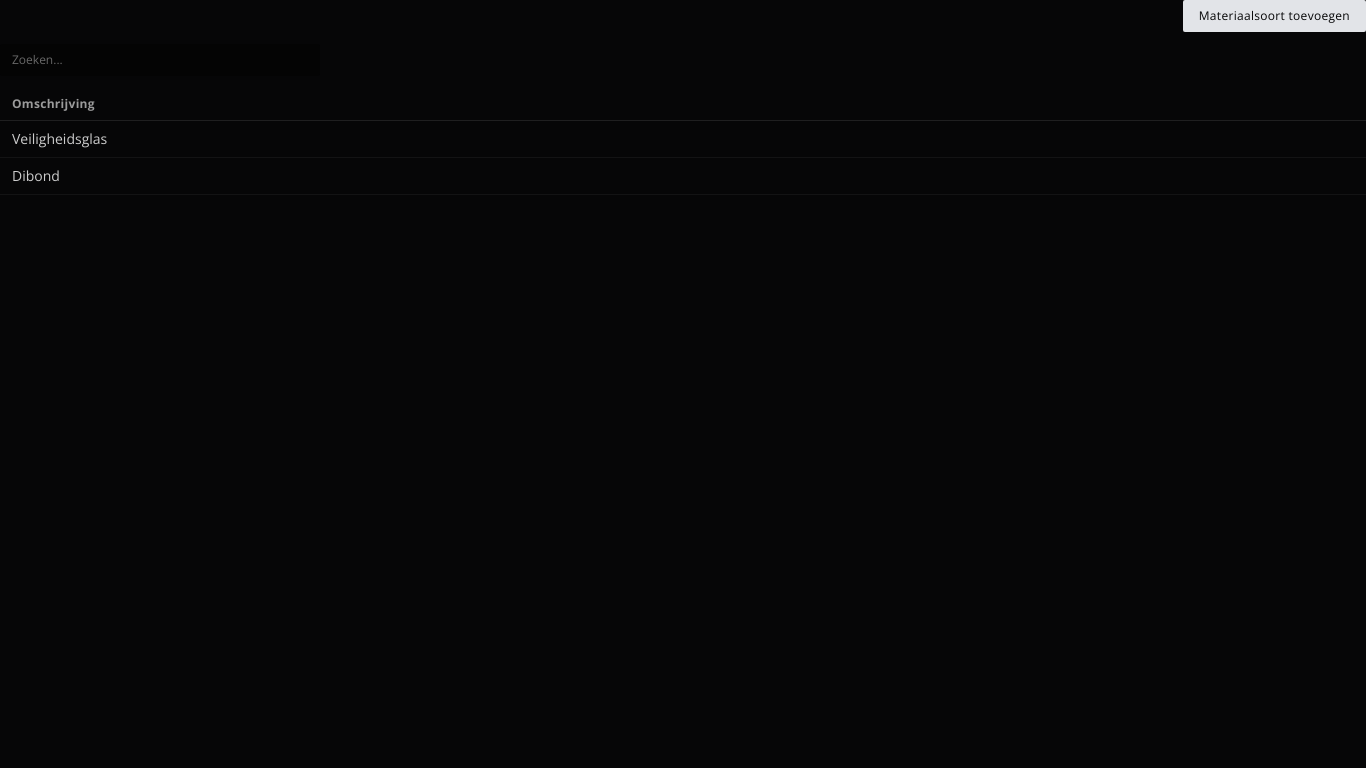
Test: MateriaalsoortenSection › disables Opslaan until omschrijving is filled in
Click the button with test id "materiaalsoorten-add" at (1274, 16), box [1183, 0, 1365, 32]
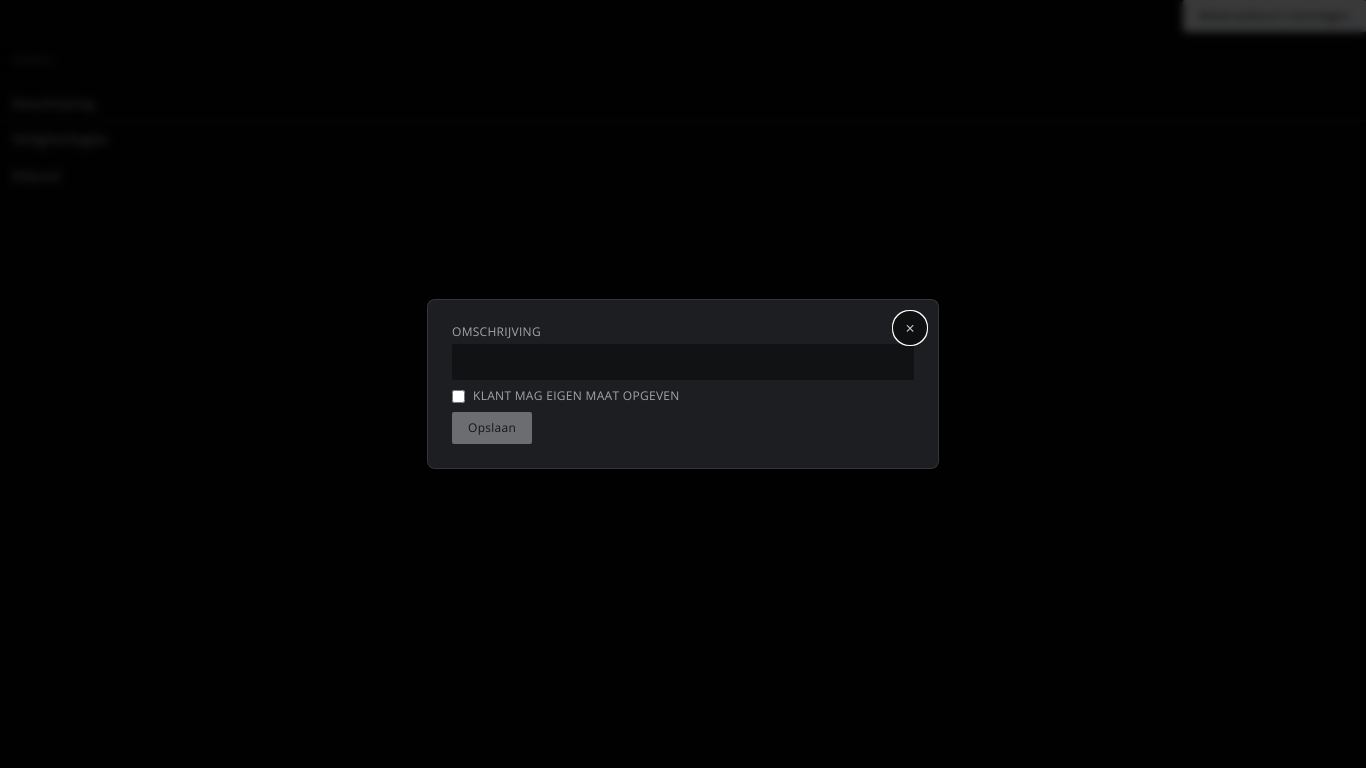
Now the button with test id "materiaalsoort-modal-opslaan" is disabled, box [452, 412, 532, 444]
Type "X" into the field with test id "materiaalsoort-modal-omschrijving" at (683, 362), box [452, 344, 914, 380]
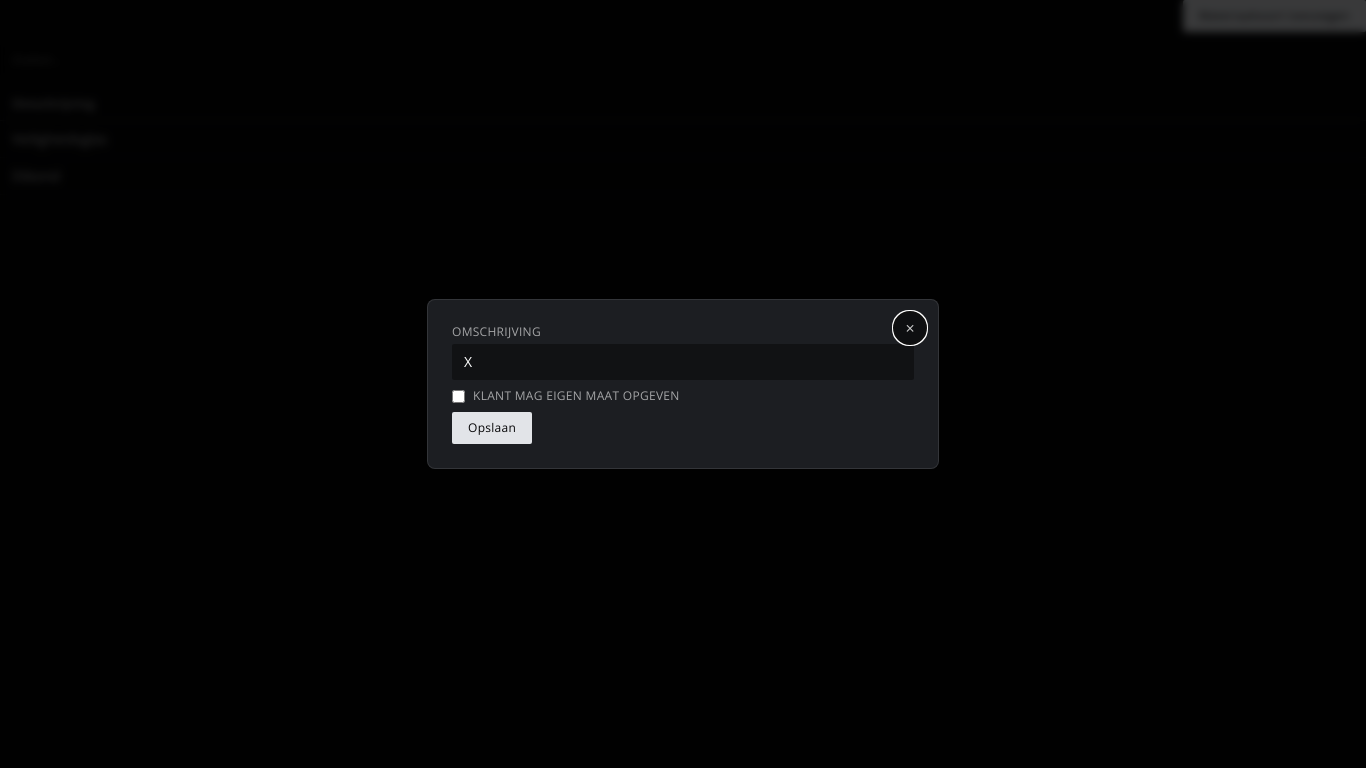
Now the button with test id "materiaalsoort-modal-opslaan" is enabled, box [452, 412, 532, 444]
